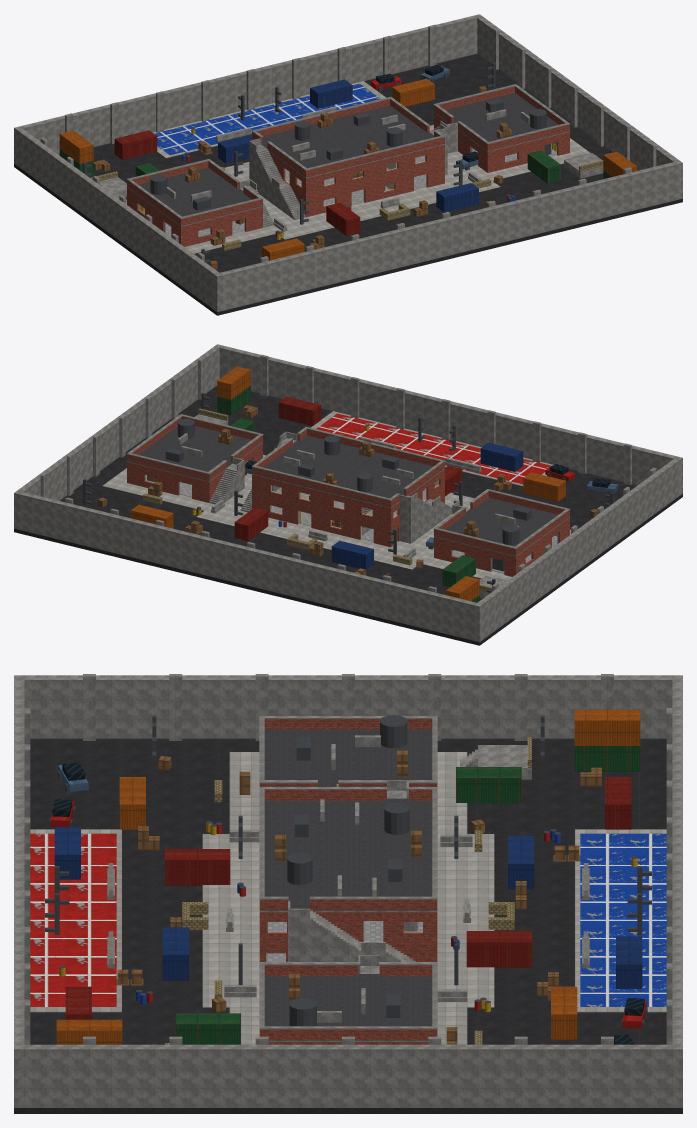
Rendered from fps_tdm_map.glb.
The picture shows the model from 3 angles, top to bottom: view 1: azimuth 30°, elevation 25°; view 2: azimuth 150°, elevation 25°; view 3: azimuth 270°, elevation 25°; orthographic projection. The views are drawn at different scales.
Parts seen in each view (by area): view 1: Object_5; view 2: Object_5; view 3: Object_5.
Part boxes in pixels (x1,y1,x2,y2): Object_5: (14, 14, 682, 315); Object_5: (14, 344, 682, 645); Object_5: (14, 674, 682, 1113).
Size of the model in its own units: 82 by 9.6 by 62.
1 material, 1 textured.
